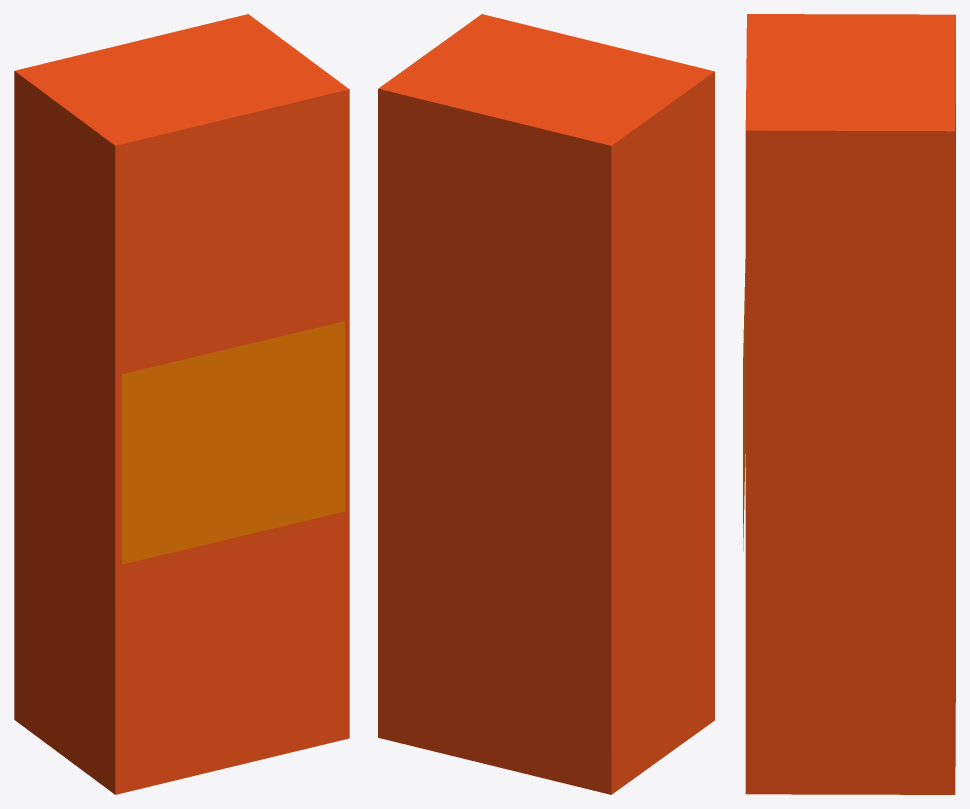
The model's file is shop_015.glb.
The picture shows the model from 3 angles, left to right: view 1: azimuth 30°, elevation 25°; view 2: azimuth 150°, elevation 25°; view 3: azimuth 270°, elevation 25°; orthographic projection. The views are drawn at different scales.
Parts seen in each view (by area): view 1: shop_015; view 2: shop_015; view 3: shop_015.
Part boxes in pixels (x1,y1,x2,y2): shop_015: [14, 14, 349, 794]; shop_015: [378, 14, 714, 794]; shop_015: [743, 14, 955, 794].
Bounding box in the file's own units: 0.1024 × 0.2705 × 0.0786.
Materials: 1 (1 with a texture image).
